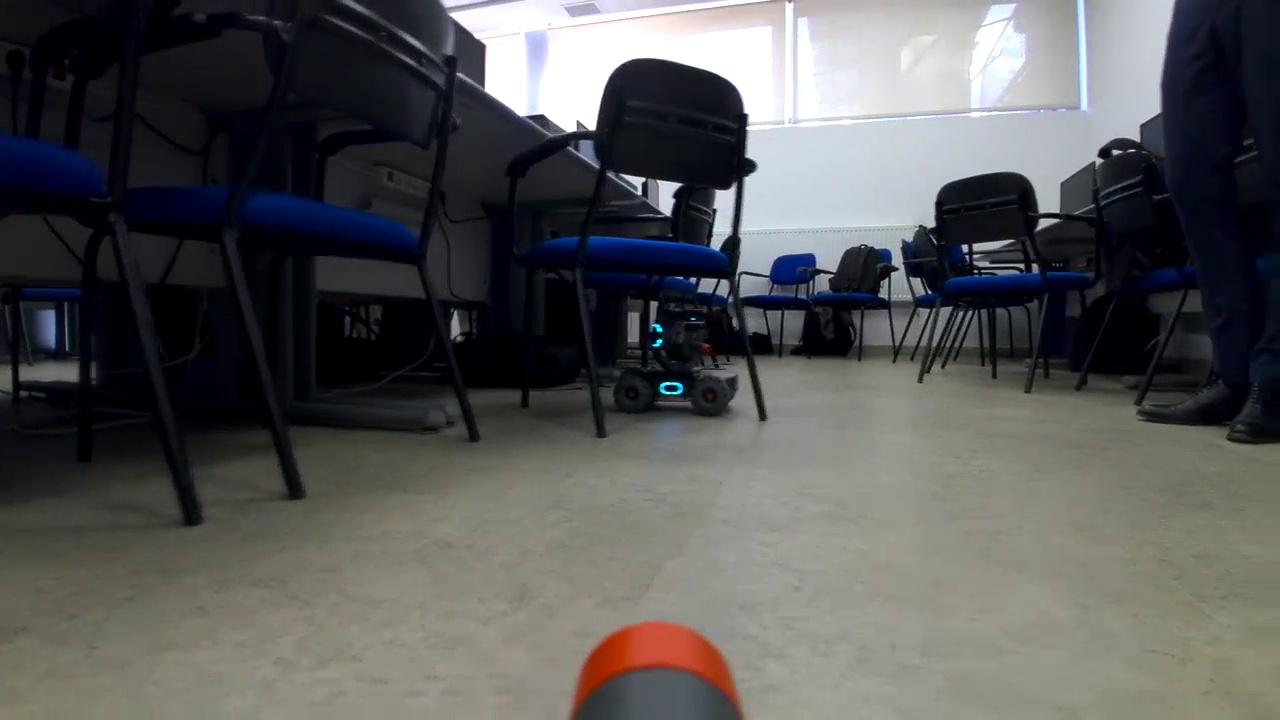robot: (606, 296, 746, 420)
